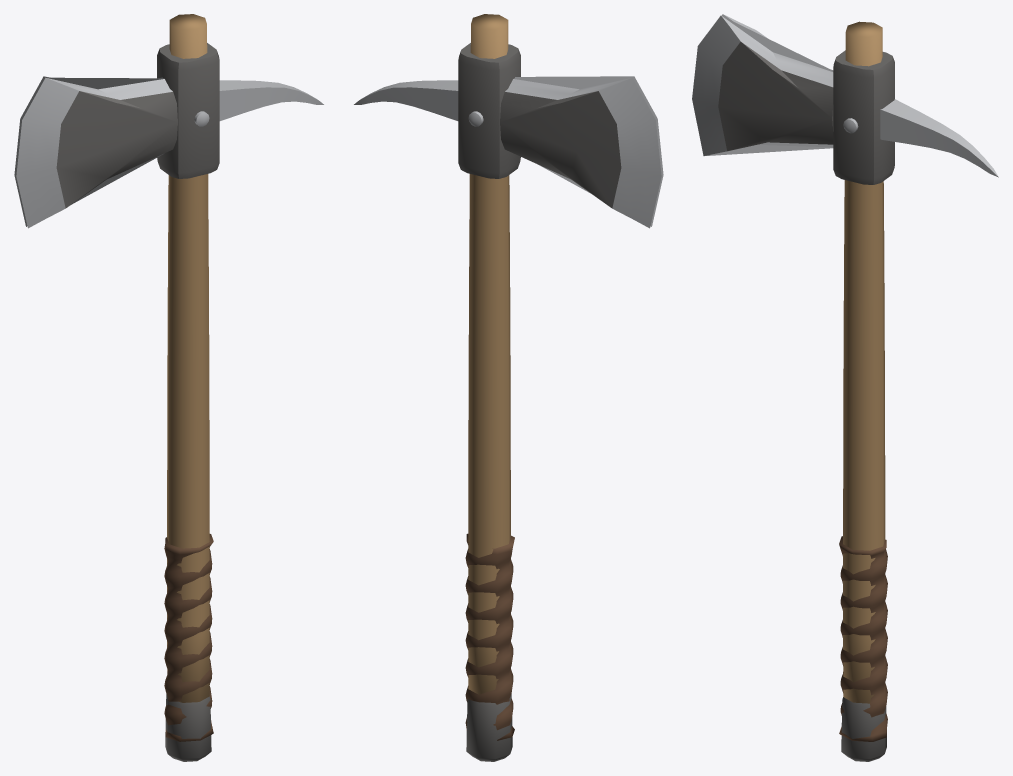
Rendered from boarding-axe.glb.
3 views of the same model, side by side, from view 1: azimuth 30°, elevation 25°; view 2: azimuth 150°, elevation 25°; view 3: azimuth 330°, elevation 25° (orthographic).
Visible parts, largest first — view 1: boarding-axe; view 2: boarding-axe; view 3: boarding-axe.
Boxes of the visible parts, bbox=[...] form: boarding-axe: bbox=[14, 14, 323, 761]; boarding-axe: bbox=[354, 14, 663, 761]; boarding-axe: bbox=[692, 14, 998, 761].
Size of the model in its own units: 0.5563 by 1.26 by 0.1004.
